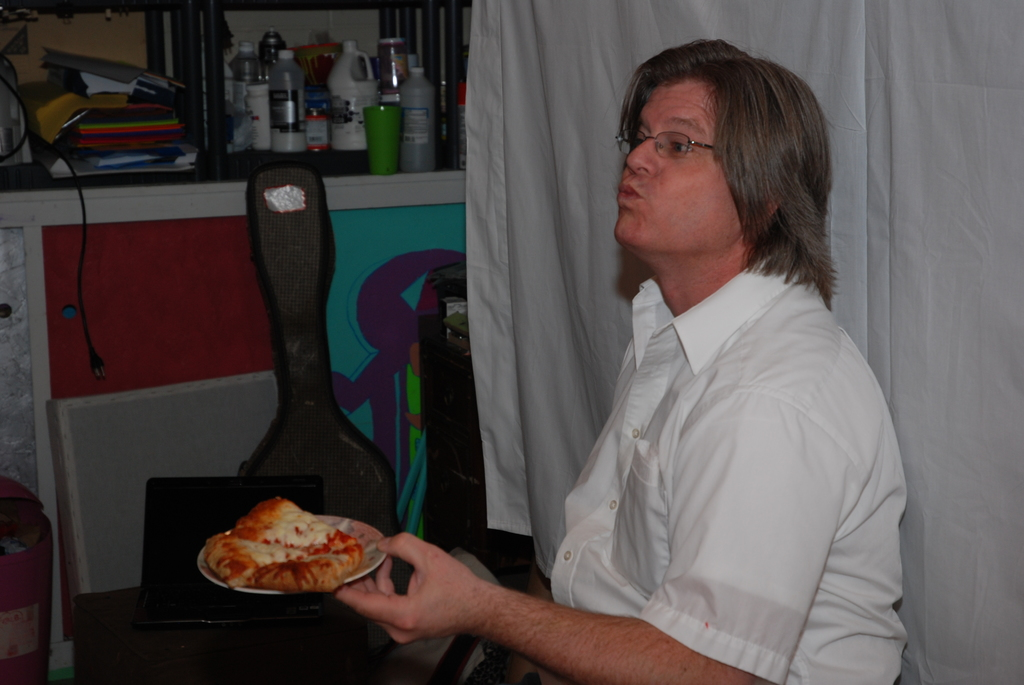Pizza: (181, 507, 367, 614)
